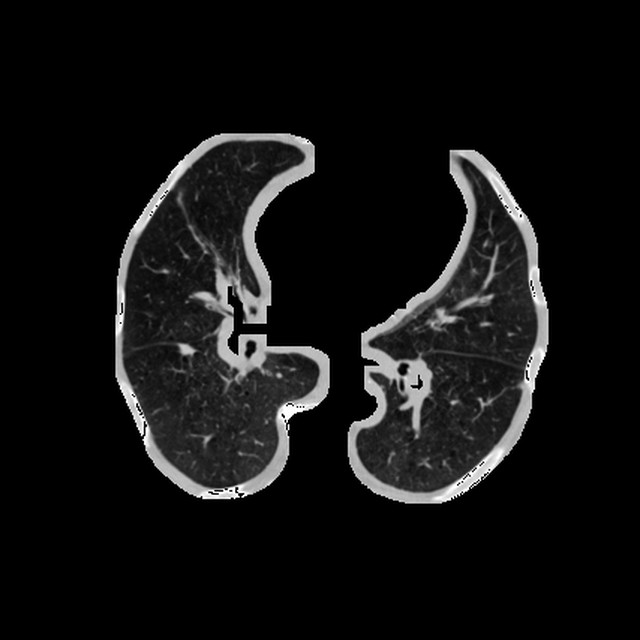PN: (180, 343, 192, 355)
